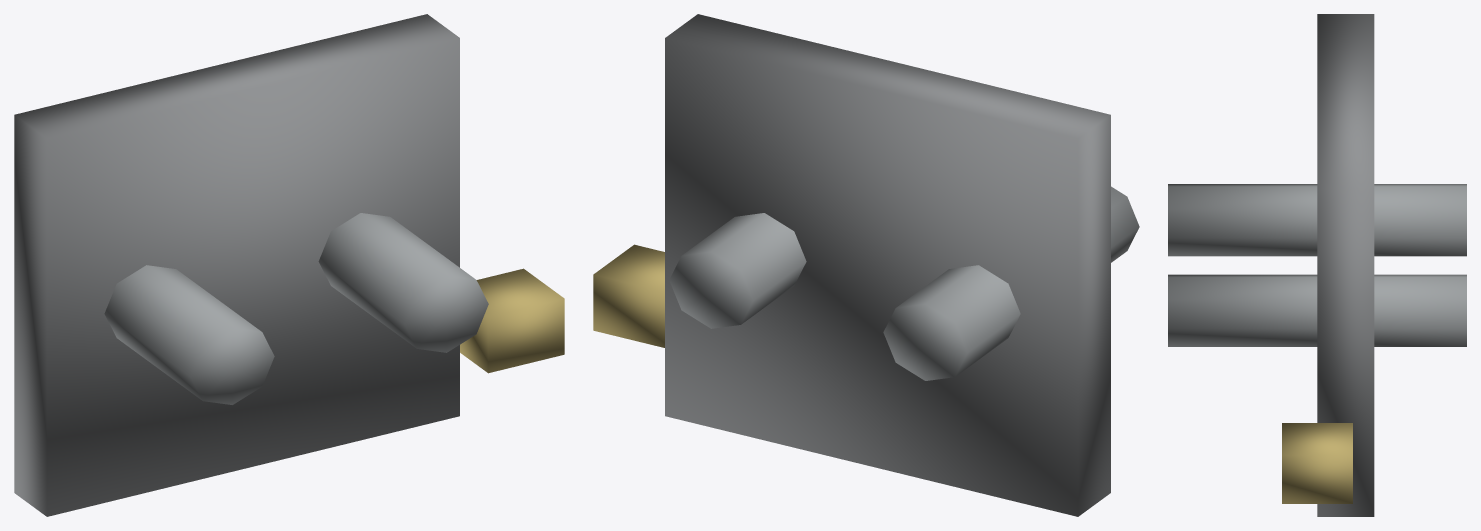
The model's file is pipe_penetration_08.glb.
The picture shows the model from 3 angles, left to right: view 1: azimuth 30°, elevation 25°; view 2: azimuth 150°, elevation 25°; view 3: azimuth 270°, elevation 25°; orthographic projection. The views are drawn at different scales.
Visible parts, largest first — view 1: world; view 2: world; view 3: world.
Part boxes in pixels (left/top/right/bottom): world: left=14, top=14, right=564, bottom=516; world: left=593, top=14, right=1139, bottom=516; world: left=1168, top=14, right=1466, bottom=516.
Bounding box in the file's own units: 0.728 × 0.5292 × 0.4368.
